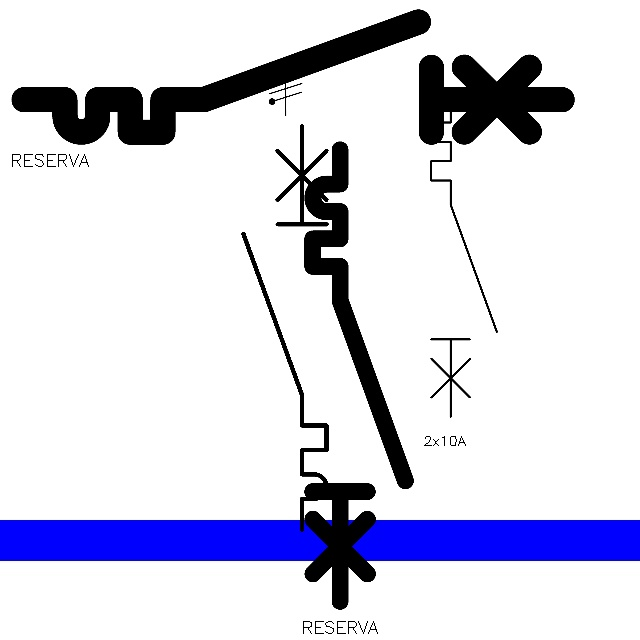interruptor_termomagnetico: (10, 8, 575, 146), (301, 138, 417, 613), (233, 115, 337, 539), (423, 90, 505, 425)
